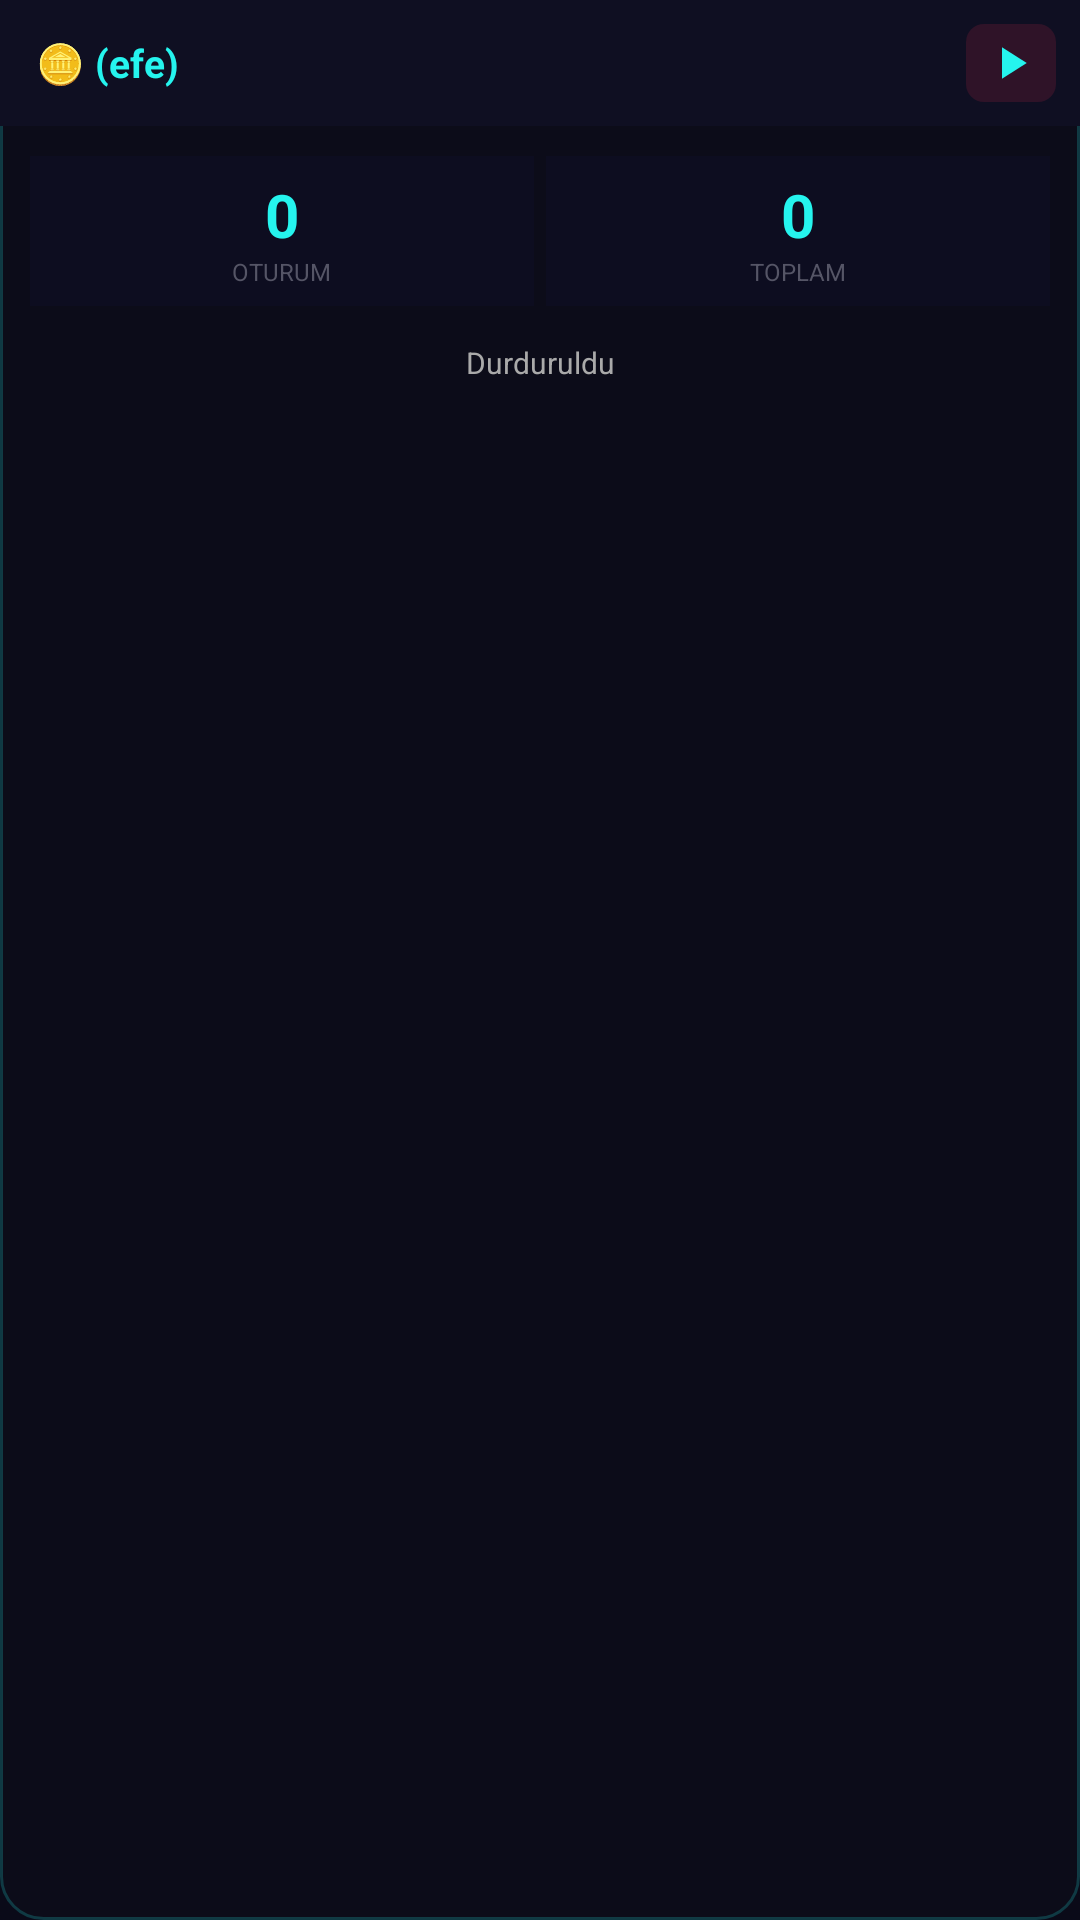

Named icons in this screenshot (1080px×1920px) and their centers, (x,y):
play: (1011,63)
